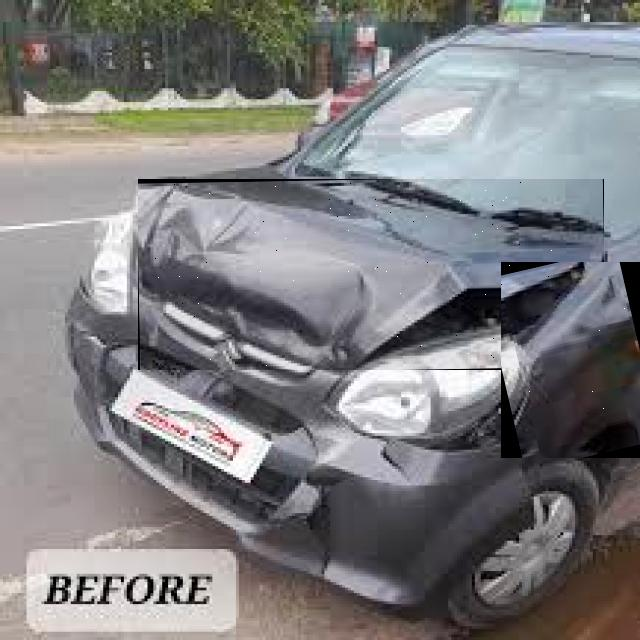Dent: (139, 188, 603, 369), (516, 262, 639, 457), (409, 270, 579, 352)
